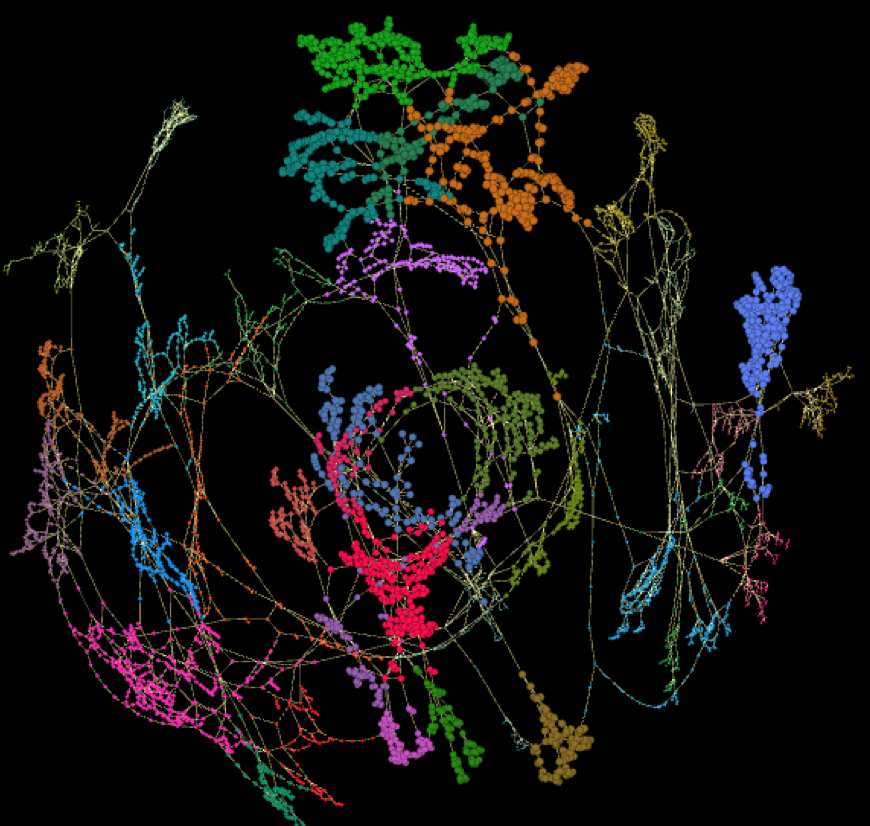

Layout of this report page (visuals, bound fields, positions):
{"tool":"tableau","page":{"name":"Dashboard 7","canvas":[1000,1000],"units":"permille","ordinal":2},"visuals":[{"type":"worksheet","title":"Sheet 24","mark":"Automatic","rows":["mood"],"cols":["mood"],"box":[7.5,11.3,584.7,488.7]},{"type":"filter","title":"Sheet 24","param":"[federated.1buitdy0b2s2zv1fmj2dv1xdqgxd (copy)].[none:code_patient:nk]","box":[592.1,11.3,400.4,73.5]},{"type":"filter","title":"Sheet 24","param":"[federated.1buitdy0b2s2zv1fmj2dv1xdqgxd (copy)].[none:date:qk]","box":[592.1,84.8,400.4,72]},{"type":"legend","title":"Sheet 24","param":"[federated.1buitdy0b2s2zv1fmj2dv1xdqgxd (copy)].[none:mood:nk]","box":[592.1,156.8,400.4,121.5]},{"type":"filter","title":"Sheet 26","param":"[federated.1buitdy0b2s2zv1fmj2dv1xdqgxd (copy)].[none:code_patient:nk]","box":[592.1,278.2,400.4,73.5]},{"type":"filter","title":"Sheet 26","param":"[federated.1buitdy0b2s2zv1fmj2dv1xdqgxd (copy)].[none:date:qk]","box":[592.1,351.7,400.4,72]},{"type":"legend","title":"Sheet 26","param":"[federated.1buitdy0b2s2zv1fmj2dv1xdqgxd (copy)].[none:episode:nk]","box":[592.1,423.7,400.4,149.7]},{"type":"worksheet","title":"Sheet 26","mark":"Automatic","rows":["episode"],"cols":["episode"],"box":[7.5,500,584.7,488.7]}]}

Visuals, with their boxes on the dashboard's canvas, which has no fixed pixel size, in thousandths of its width and height (x1, y1, x2, y2). These are canvas units, not pixel positions in the 870x826 screenshot, which may show the page scaled, cropped or inside an application window:
"Sheet 24" worksheet: (left=8, top=11, right=592, bottom=500)
"Sheet 24" filter: (left=592, top=11, right=992, bottom=85)
"Sheet 24" filter: (left=592, top=85, right=992, bottom=157)
"Sheet 24" legend: (left=592, top=157, right=992, bottom=278)
"Sheet 26" filter: (left=592, top=278, right=992, bottom=352)
"Sheet 26" filter: (left=592, top=352, right=992, bottom=424)
"Sheet 26" legend: (left=592, top=424, right=992, bottom=573)
"Sheet 26" worksheet: (left=8, top=500, right=592, bottom=989)
